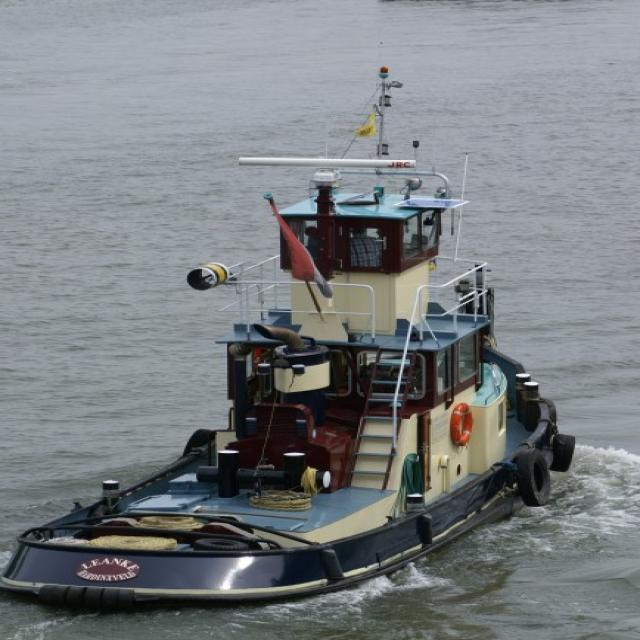tugboat: (1, 150, 583, 623)
